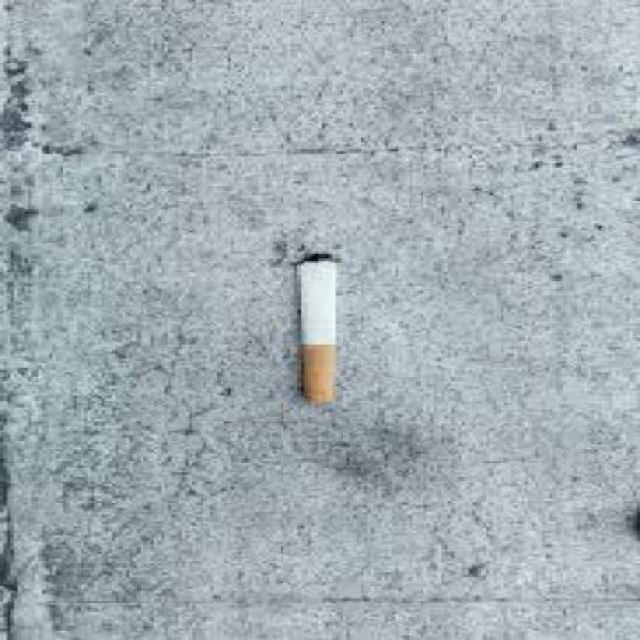cigarette: (262, 244, 364, 419)
